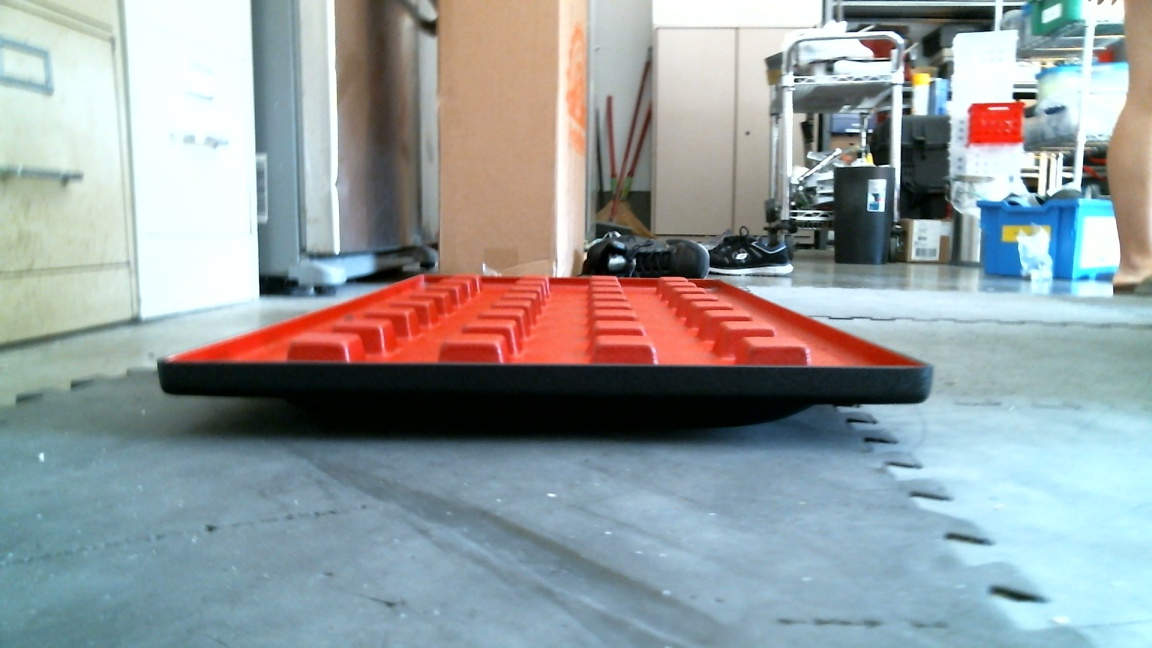red_foundation: (156, 269, 938, 431)
